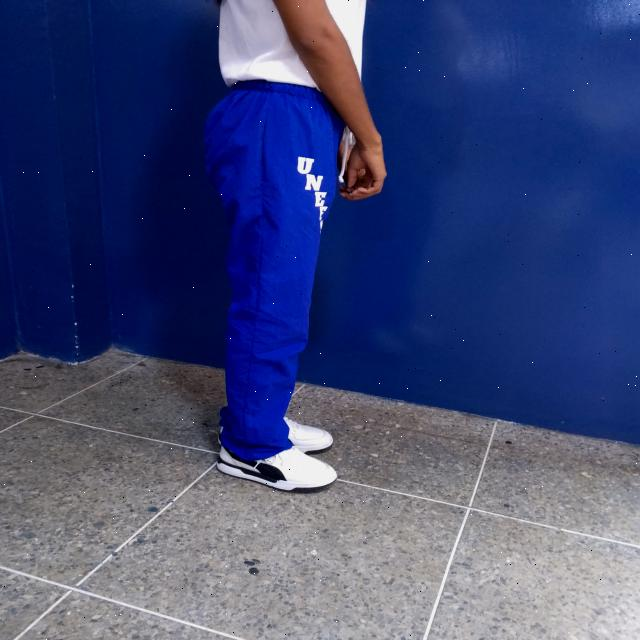uniforme_superior: (202, 78, 345, 461)
